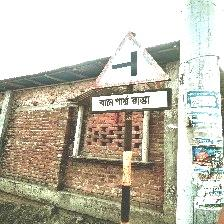Side-road-left: (92, 32, 170, 113)
